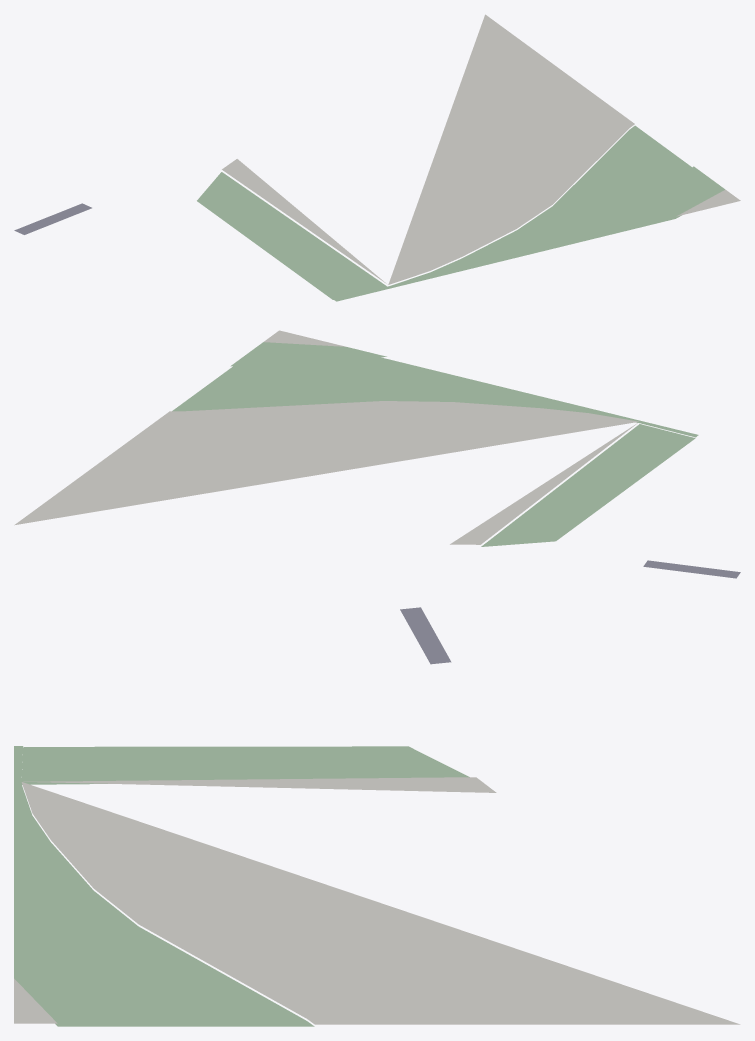
File: 123_65_mid.glb
The picture shows the model from 3 angles, top to bottom: view 1: azimuth 30°, elevation 25°; view 2: azimuth 150°, elevation 25°; view 3: azimuth 270°, elevation 25°; orthographic projection. The views are drawn at different scales.
Bounding box in the file's own units: 311 × 5.5 × 236.
